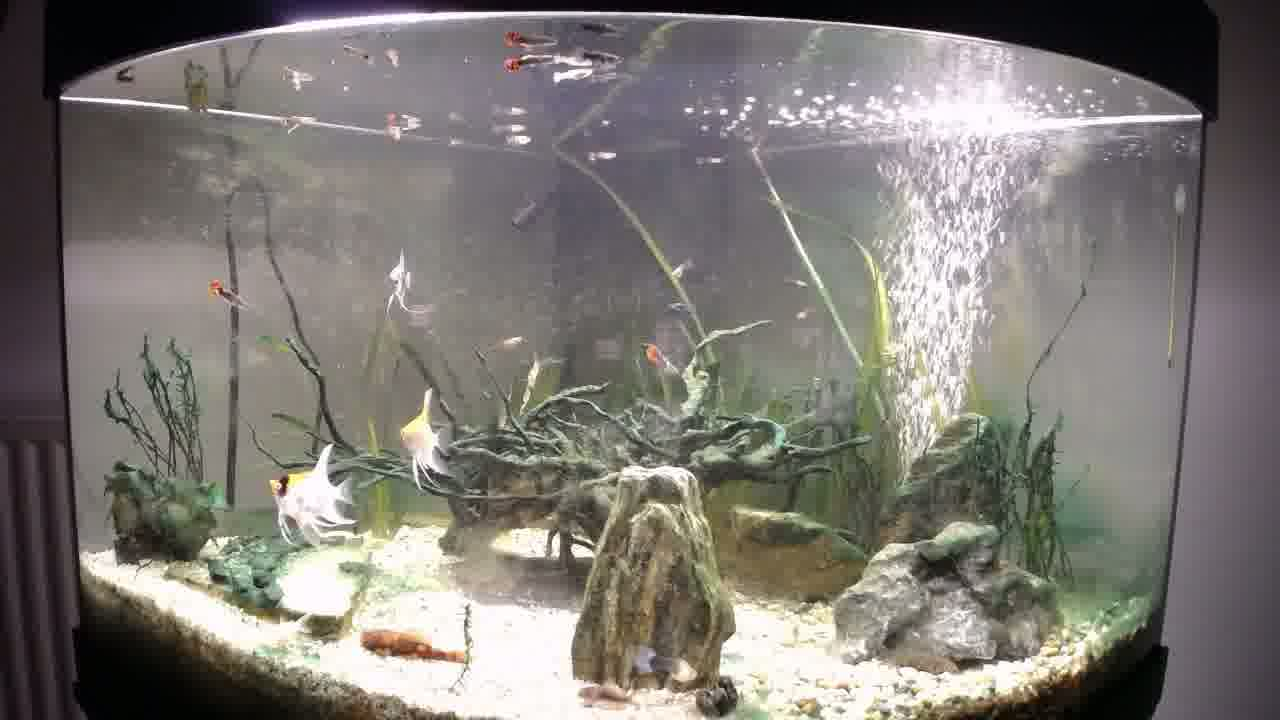Ancistrus: (356, 624, 474, 669)
Botia_Striata: (894, 648, 969, 677)
Corydoras_Albinos: (244, 609, 322, 649)
Corydoras_Panda: (574, 676, 641, 713)
G_Matriarche: (630, 642, 702, 685)
Pterophyllum_Scalare_BB: (379, 246, 418, 317)
Pterophyllum_Scalare_W: (265, 441, 358, 551)
Pterophyllum_Scalare_Y: (395, 382, 456, 495)
Pterophyllum_Scalare_YWB: (265, 457, 301, 546)
